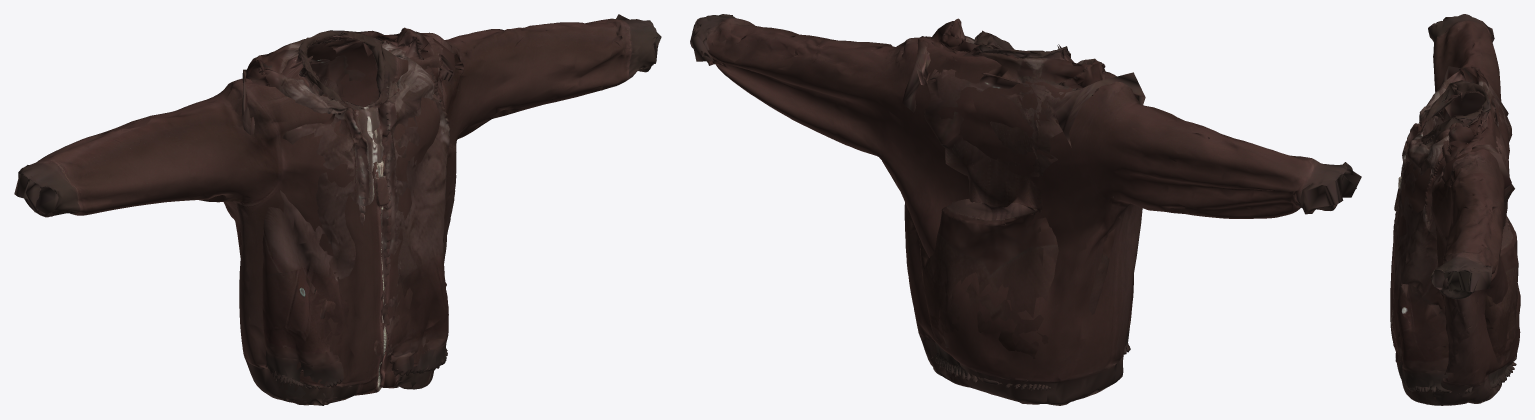
Rendered from brown_jacket.glb.
The picture shows the model from 3 angles, left to right: view 1: azimuth 30°, elevation 25°; view 2: azimuth 150°, elevation 25°; view 3: azimuth 270°, elevation 25°; orthographic projection. The views are drawn at different scales.
Visible parts, largest first — view 1: Mesh_0.001; view 2: Mesh_0.001; view 3: Mesh_0.001.
Boxes of the visible parts, bbox=[...] form: Mesh_0.001: bbox=[14, 14, 661, 405]; Mesh_0.001: bbox=[690, 14, 1361, 405]; Mesh_0.001: bbox=[1390, 14, 1520, 405].
Bounding box in the file's own units: 1.76 × 0.8818 × 0.3707.
1 material, 1 textured.
